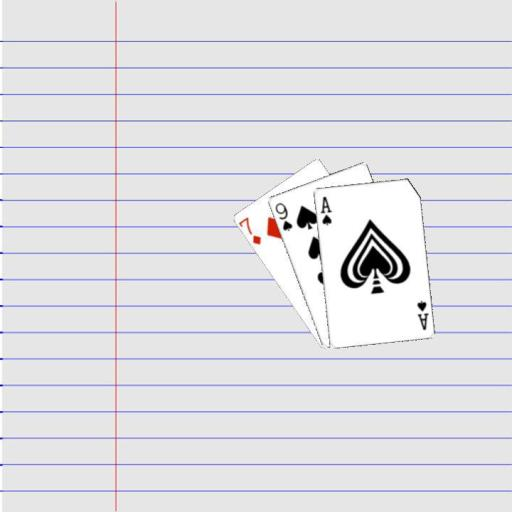7D: (236, 213, 262, 246)
9S: (272, 199, 294, 233)
AS: (317, 193, 333, 226), (414, 298, 429, 332)
